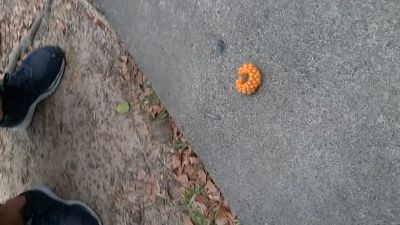eggs: (234, 64, 263, 96)
